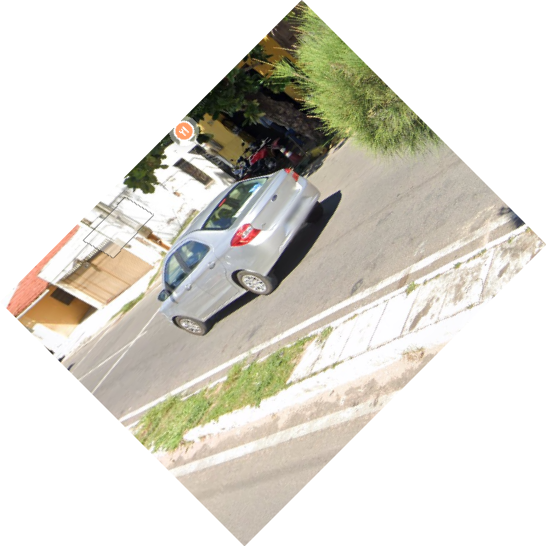car: (155, 165, 328, 347)
